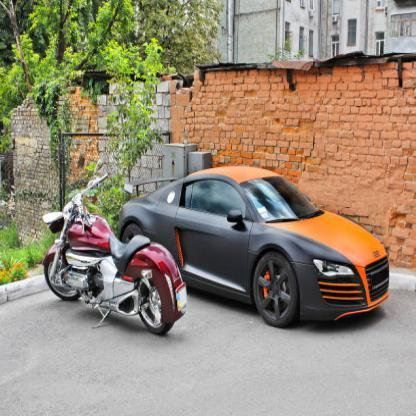Motorcycle: (35, 157, 192, 340)
